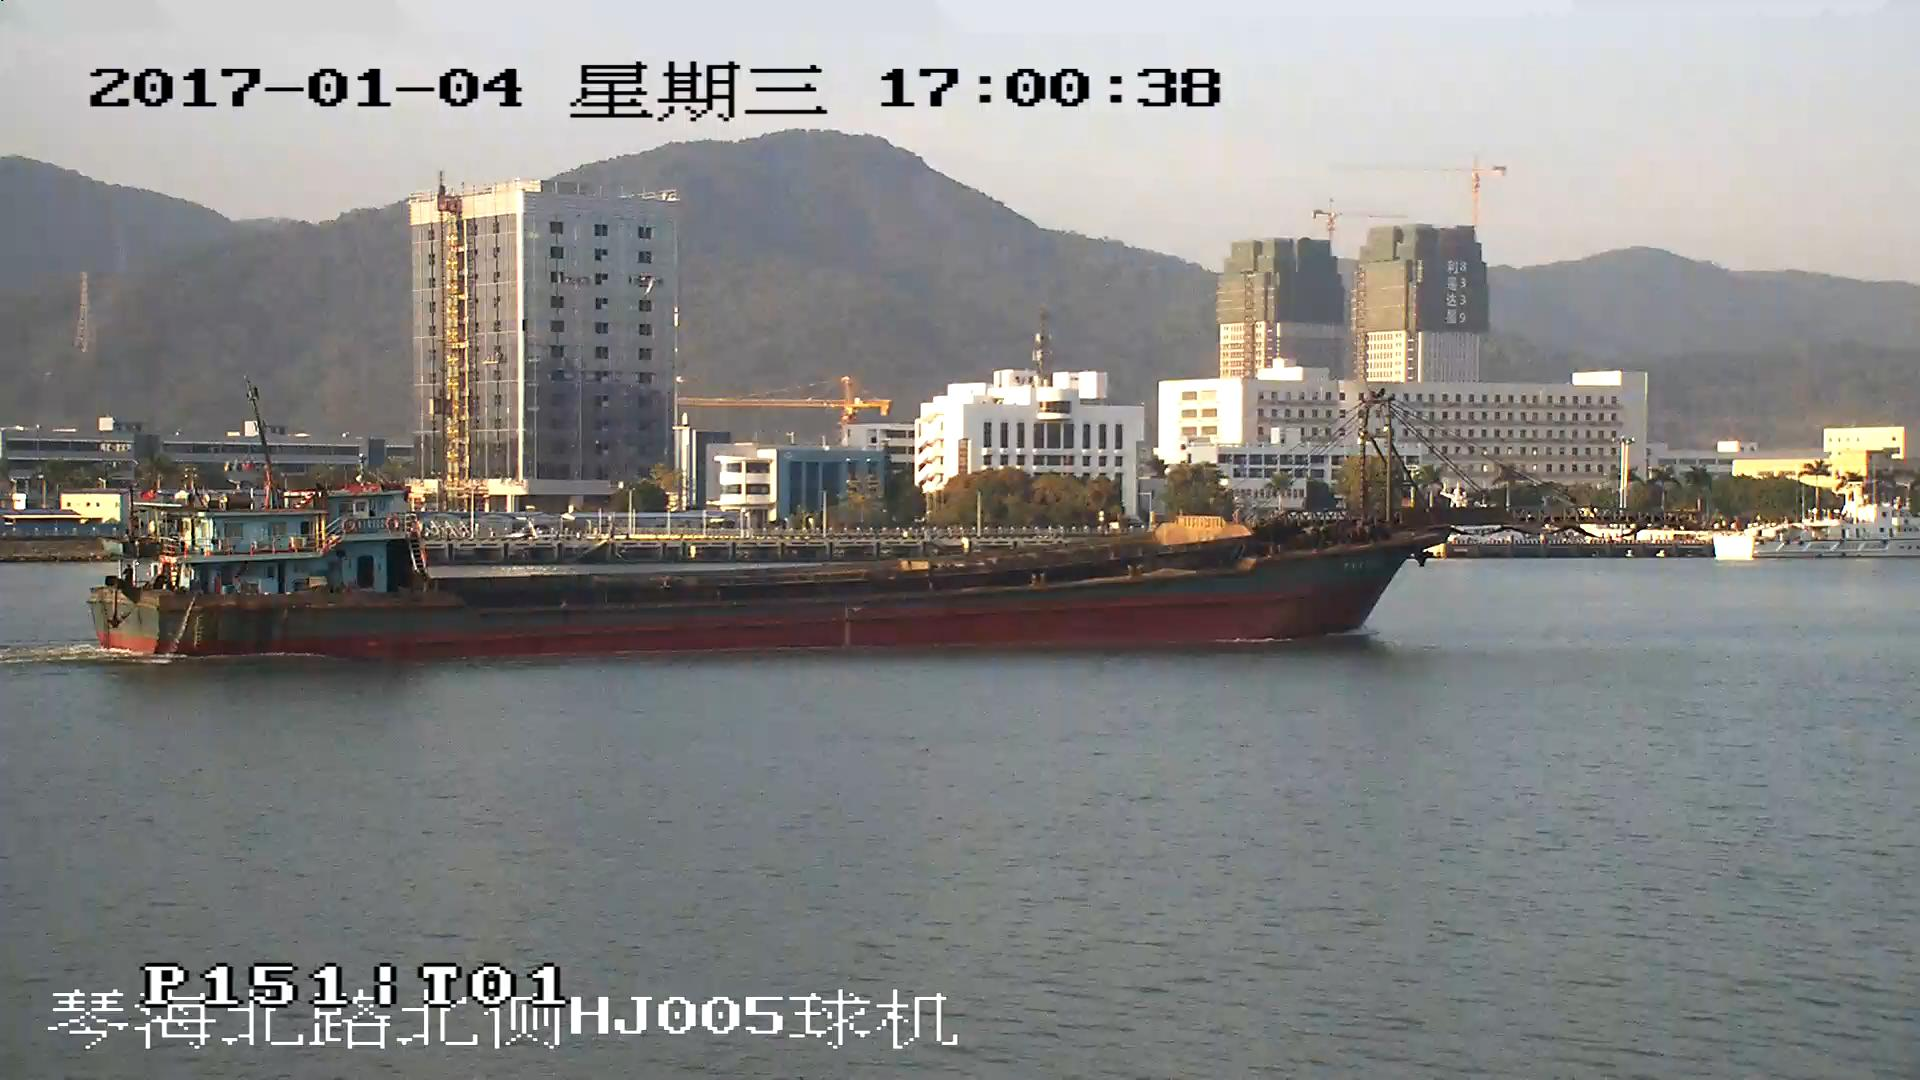bulk cargo carrier: (91, 392, 1656, 657)
